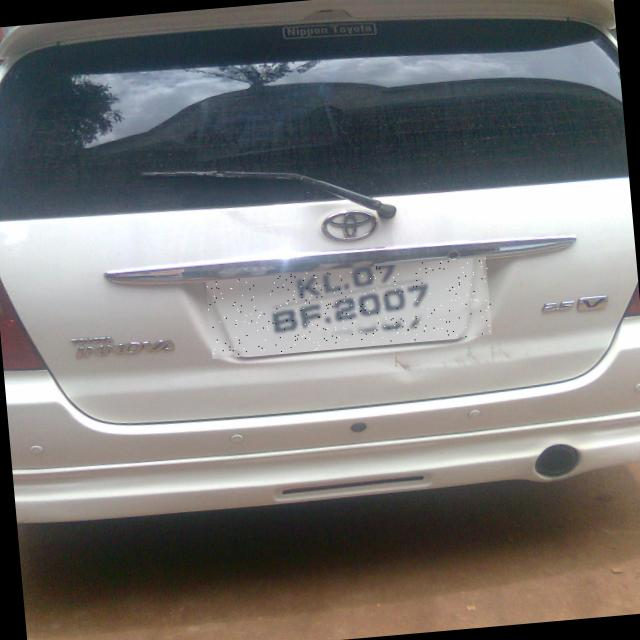Plate: (207, 258, 495, 360)
